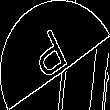P_SE: (31, 24, 79, 86)
